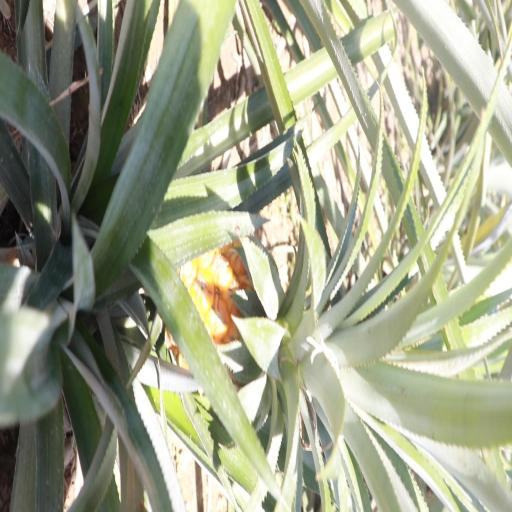Pineapple - v8 v1: (174, 221, 364, 399)
